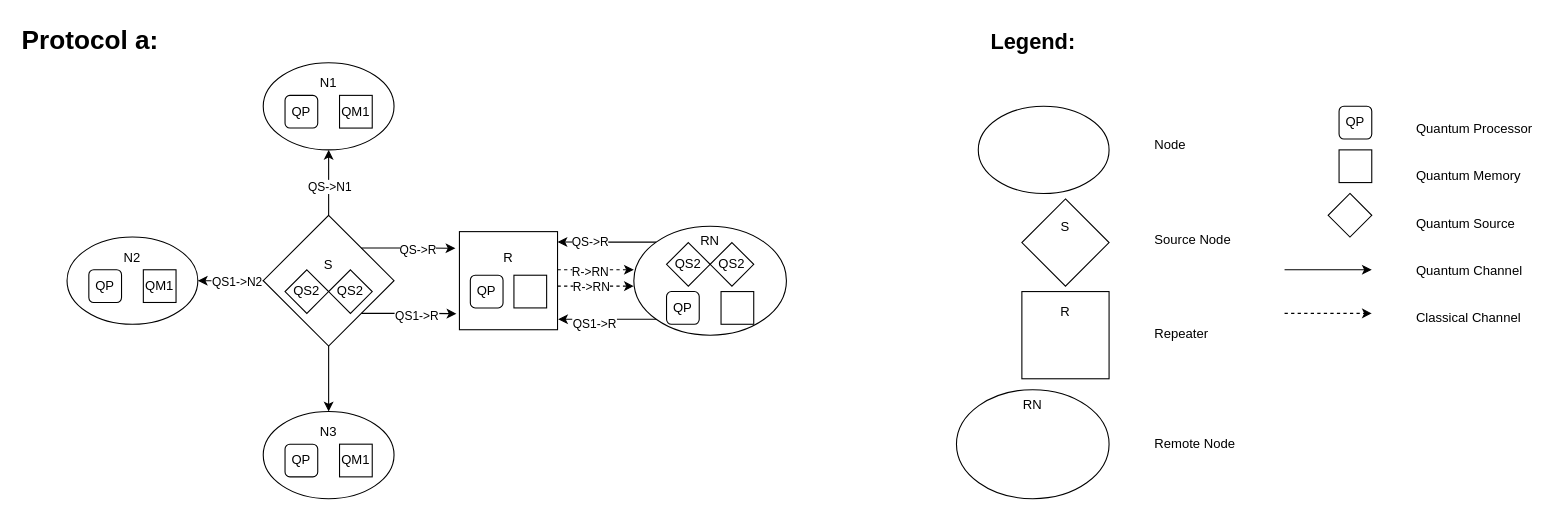
This 1563x518 diagram has some shape labels left out. Here are the shapes that lost their labels. From the top down, the centre of each, then its label:
At pixel 1043 149: "N_".
At pixel 1355 166: "QM_".
At pixel 1349 214: "QS_".
At pixel 530 291: "QM4".
At pixel 737 307: "QM2".
